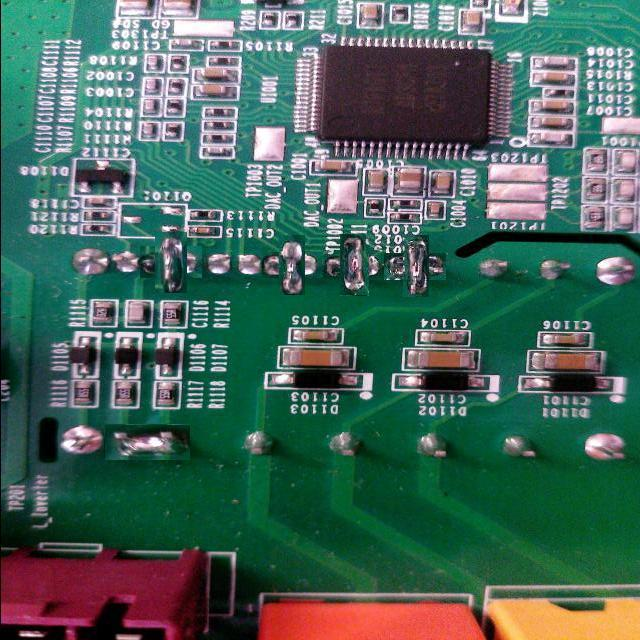Short_circuit: (104, 424, 190, 460), (148, 238, 195, 286), (331, 242, 377, 288), (393, 244, 438, 289), (271, 243, 314, 287)
